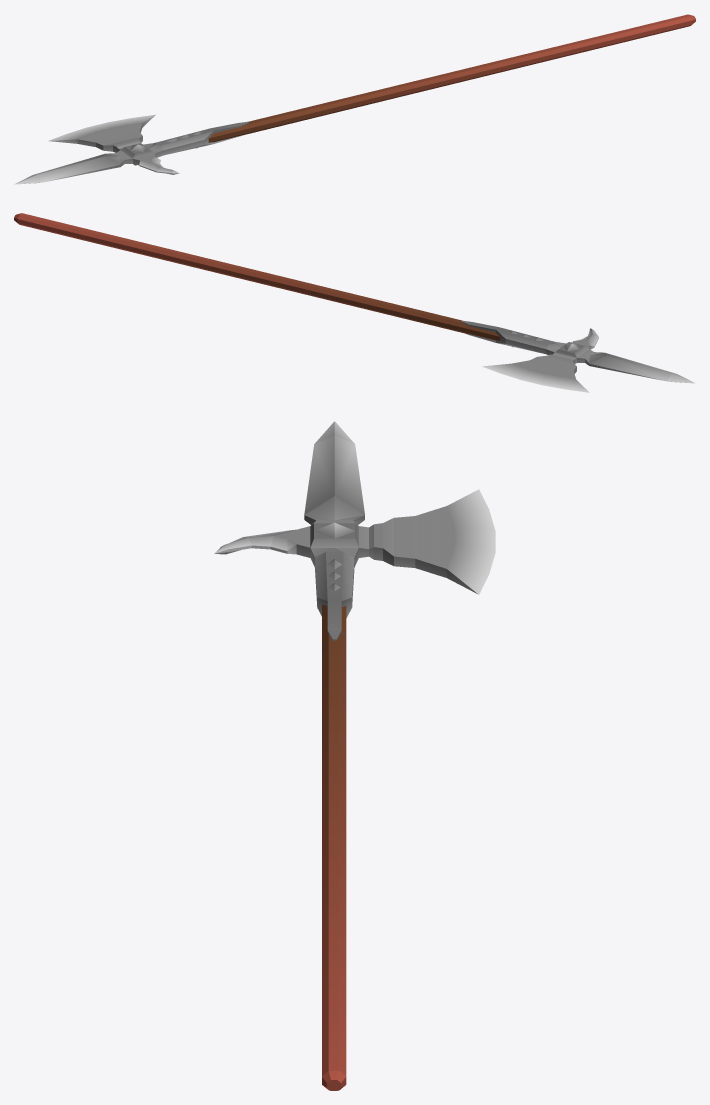
The model's file is Hellebard.fbx.
3 views of the same model, one above another, from view 1: azimuth 30°, elevation 25°; view 2: azimuth 150°, elevation 25°; view 3: azimuth 270°, elevation 25° (orthographic). The views are drawn at different scales.
Parts seen in each view (by area): view 1: Hellebard; view 2: Hellebard; view 3: Hellebard.
Boxes of the visible parts, box(x1,y1,x2,y2) form: Hellebard: box(14, 14, 695, 184); Hellebard: box(14, 213, 694, 392); Hellebard: box(214, 421, 495, 1090).
Bounding box in the file's own units: 0.0228 × 0.00062 × 0.00408.
